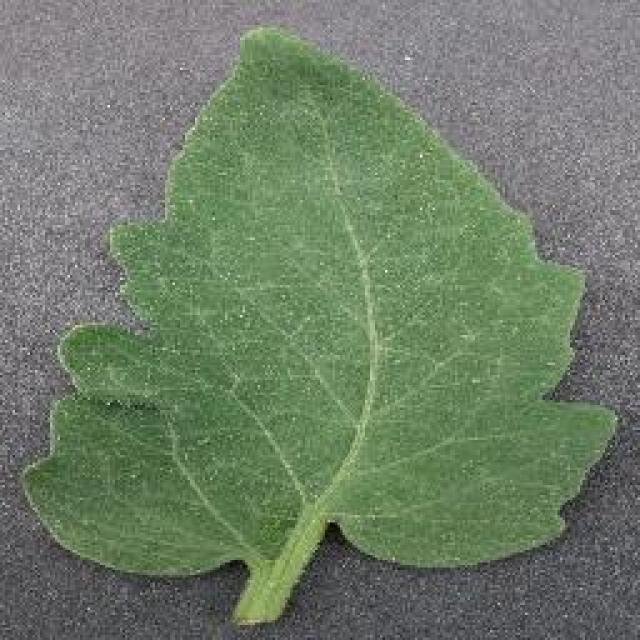healthy: (18, 20, 623, 620)
